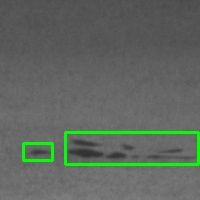inclusion: (65, 132, 198, 164), (23, 143, 52, 160)
